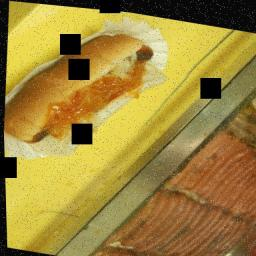hotdog: (0, 14, 174, 166)
